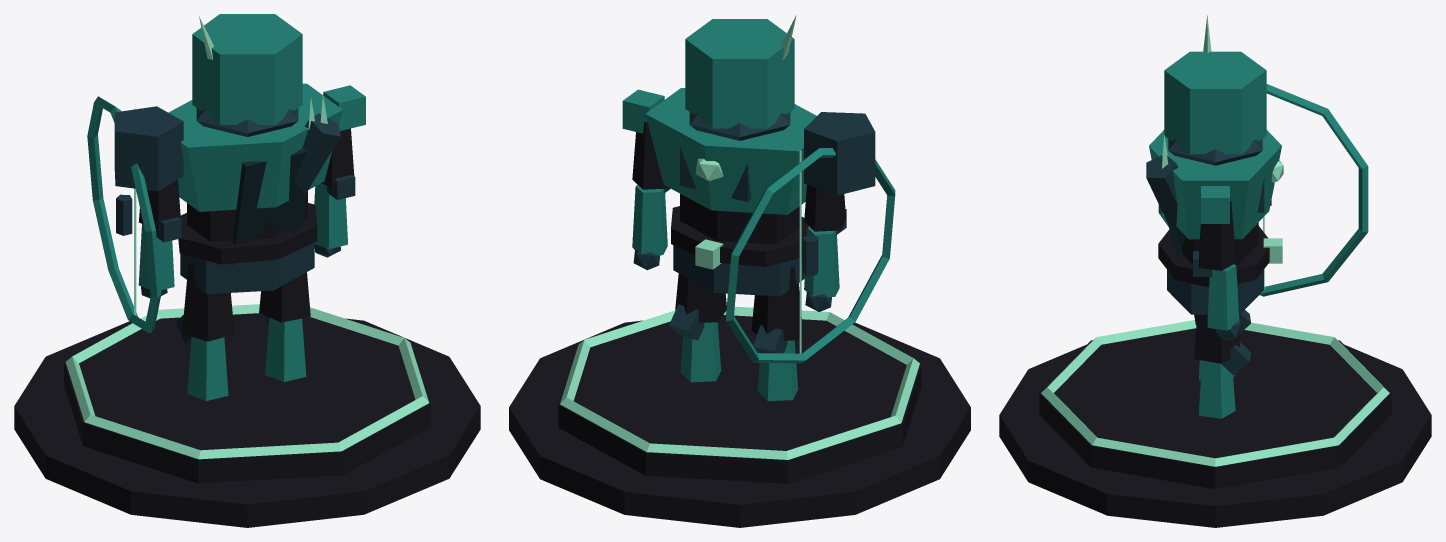
The model's file is ranger.glb.
3 views of the same model, side by side, from view 1: azimuth 30°, elevation 25°; view 2: azimuth 150°, elevation 25°; view 3: azimuth 270°, elevation 25° (orthographic). The views are drawn at different scales.
Visible parts, largest first — view 1: Pedestal_Top_0.0, Pedestal_Base_0.0, Cylinder.013, Zephyr_Chest, Pedestal_RuneRing_0.0, Cylinder.012, Torus.007, Zephyr_Pelvis, Cube.032, Cylinder.009, Cone.021, Cone.022 (+12 smaller); view 2: Pedestal_Top_0.0, Pedestal_Base_0.0, Zephyr_Chest, Cylinder.013, Pedestal_RuneRing_0.0, Cylinder.012, Torus.007, Zephyr_Pelvis, Cylinder.010, Cylinder.009, Cone.028, Cone.021 (+14 smaller); view 3: Pedestal_Top_0.0, Pedestal_Base_0.0, Cylinder.013, Pedestal_RuneRing_0.0, Zephyr_Chest, Torus.007, Cylinder.009, Cone.024, Cone.028, Zephyr_Pelvis, Cone.027, Cylinder.014 (+5 smaller).
Part boxes in pixels (x1,y1,x2,y2): Pedestal_Top_0.0: [64, 313, 430, 483]; Pedestal_Base_0.0: [14, 318, 480, 527]; Cylinder.013: [192, 14, 302, 124]; Zephyr_Chest: [168, 83, 342, 211]; Pedestal_RuneRing_0.0: [66, 304, 428, 459]; Cylinder.012: [114, 106, 183, 191]; Torus.007: [87, 96, 161, 333]; Zephyr_Pelvis: [180, 242, 314, 294]; Cube.032: [232, 148, 307, 266]; Cylinder.009: [178, 203, 317, 264]; Cone.021: [182, 261, 234, 341]; Cone.022: [187, 337, 228, 400]; Pedestal_Top_0.0: [558, 315, 921, 483]; Pedestal_Base_0.0: [509, 320, 970, 527]; Zephyr_Chest: [645, 88, 816, 214]; Cylinder.013: [685, 19, 794, 128]; Pedestal_RuneRing_0.0: [560, 306, 919, 459]; Cylinder.012: [804, 112, 875, 195]; Torus.007: [726, 148, 895, 363]; Zephyr_Pelvis: [673, 245, 804, 296]; Cylinder.010: [680, 194, 799, 244]; Cylinder.009: [671, 206, 808, 266]; Cone.028: [632, 185, 667, 255]; Cone.021: [751, 266, 802, 340]; Pedestal_Top_0.0: [1039, 328, 1391, 489]; Pedestal_Base_0.0: [999, 344, 1431, 527]; Cylinder.013: [1164, 51, 1266, 154]; Pedestal_RuneRing_0.0: [1041, 320, 1389, 466]; Zephyr_Chest: [1149, 130, 1281, 239]; Torus.007: [1158, 84, 1368, 296]; Cylinder.009: [1158, 226, 1269, 287]; Cone.024: [1199, 360, 1235, 418]; Cone.028: [1207, 264, 1239, 330]; Zephyr_Pelvis: [1167, 270, 1263, 314]; Cone.027: [1198, 201, 1236, 270]; Cylinder.014: [1146, 155, 1185, 247].
Bounding box in the file's own units: 2.7 × 2.75 × 2.7.
